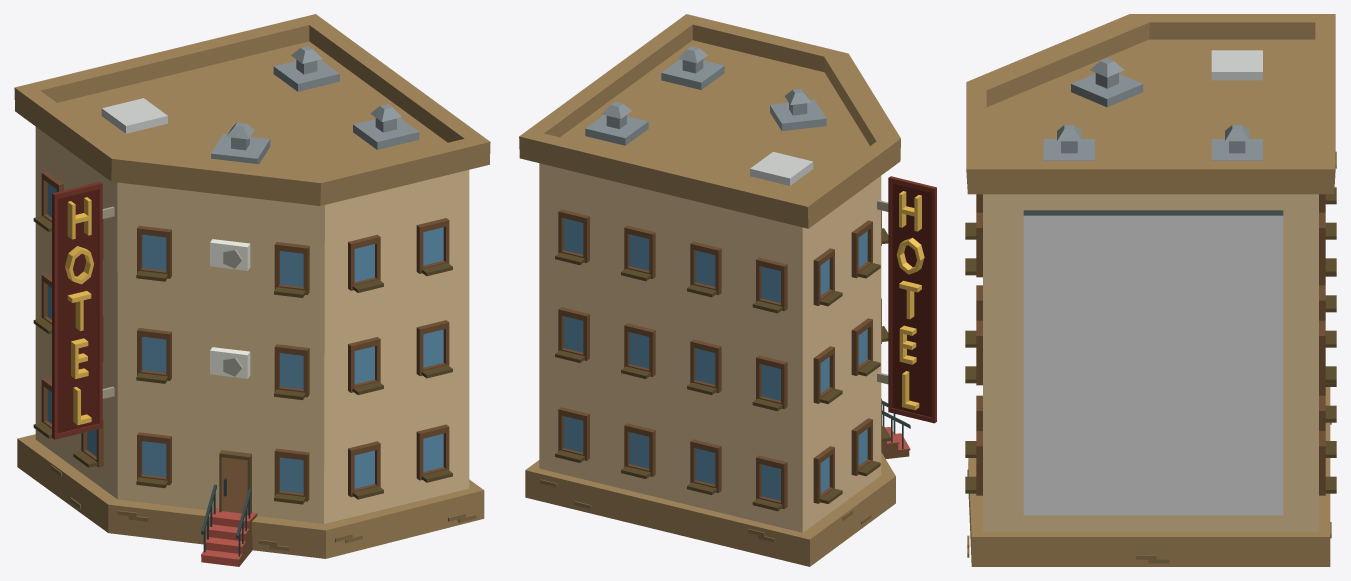
Rendered from Hotel_C.fbx.
3 renders of one model, left to right at view 1: azimuth 30°, elevation 25°; view 2: azimuth 150°, elevation 25°; view 3: azimuth 270°, elevation 25°, orthographic. The views are drawn at different scales.
Parts seen in each view (by area): view 1: Hotel_C; view 2: Hotel_C; view 3: Hotel_C, Billboard.
Boxes of the visible parts, <box> form: Hotel_C: <box>14,14,490,566</box>; Hotel_C: <box>519,14,936,566</box>; Hotel_C: <box>965,14,1336,566</box>; Billboard: <box>1023,210,1283,515</box>.
Bounding box in the file's own units: 1014 × 1086 × 884.
